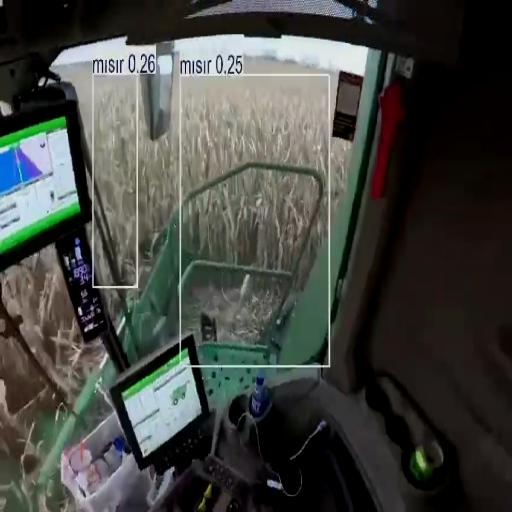misir: (184, 90, 327, 196), (191, 169, 316, 268), (94, 78, 135, 282), (139, 121, 178, 271), (299, 207, 326, 282), (331, 142, 349, 204)
